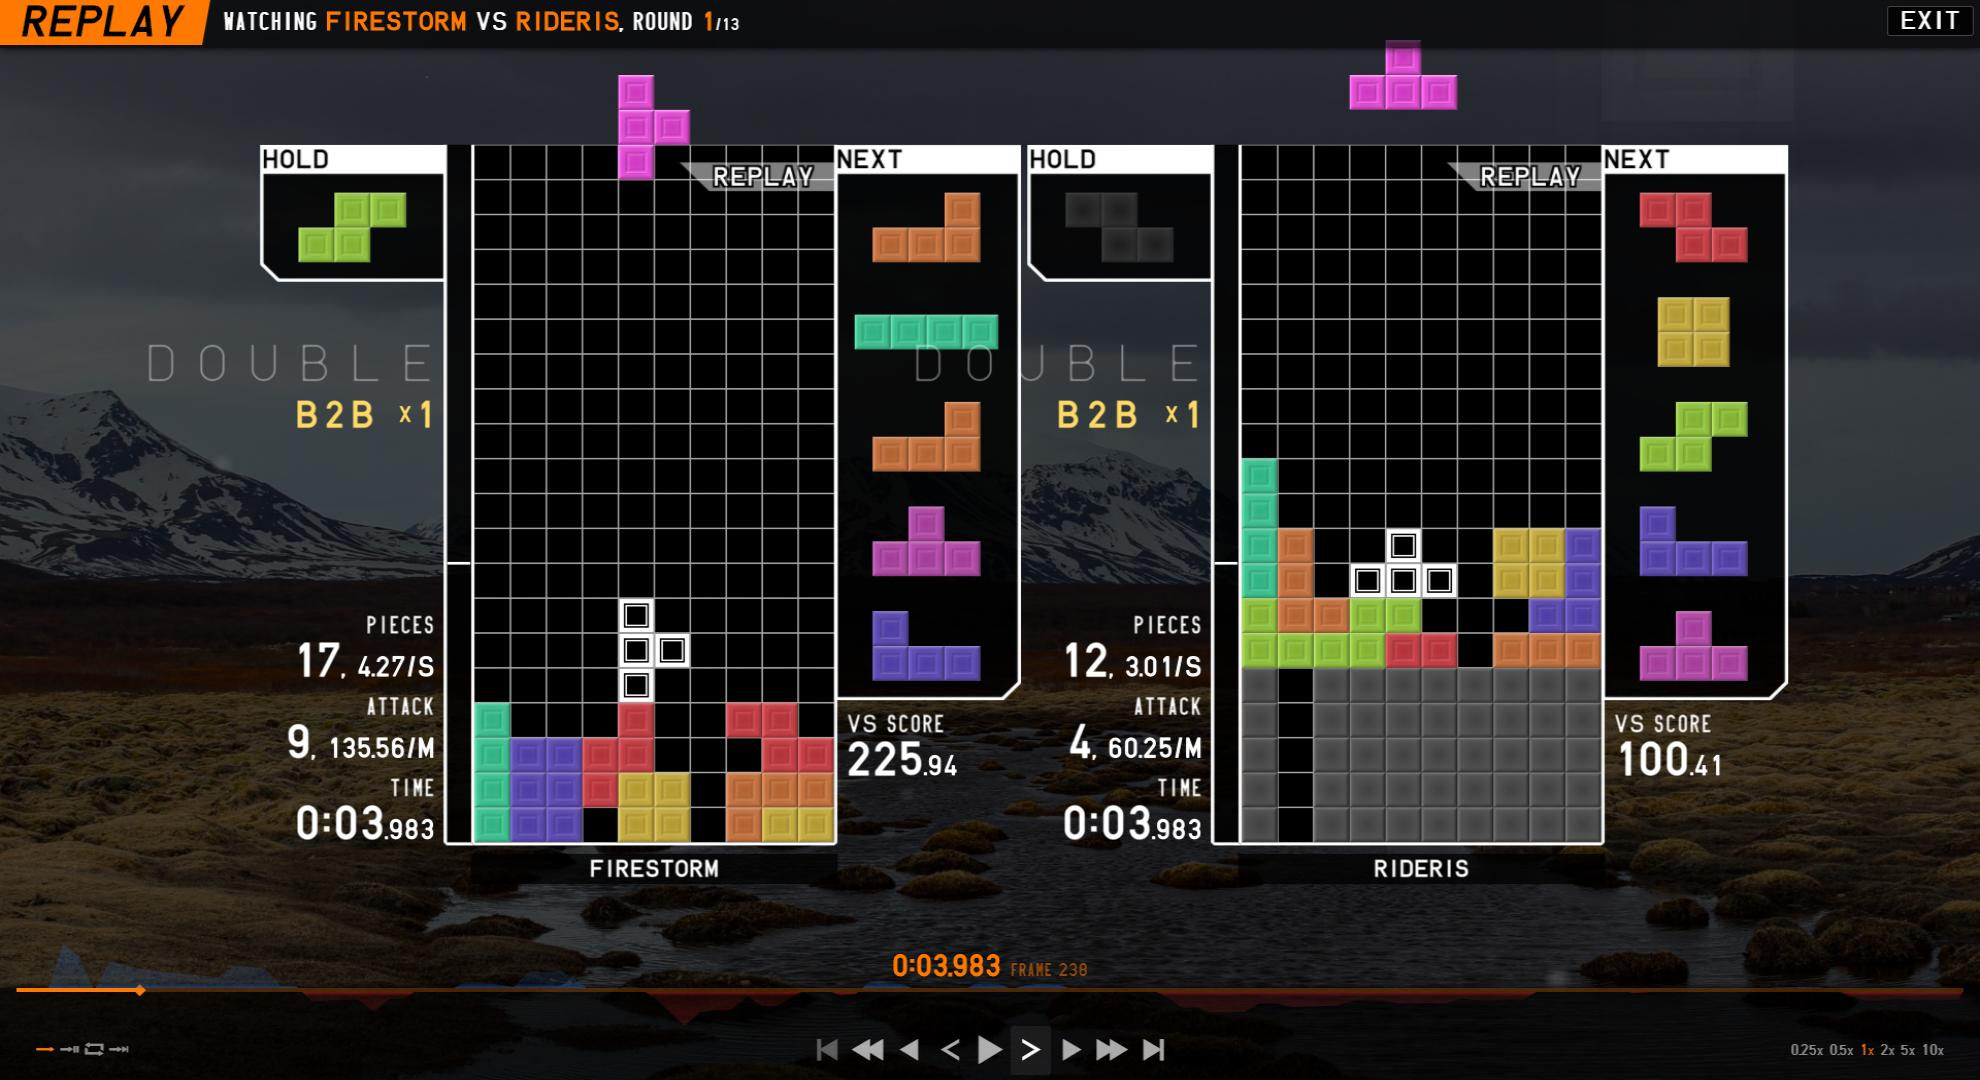tspin: (1414, 560, 1535, 670), (656, 708, 767, 807)
